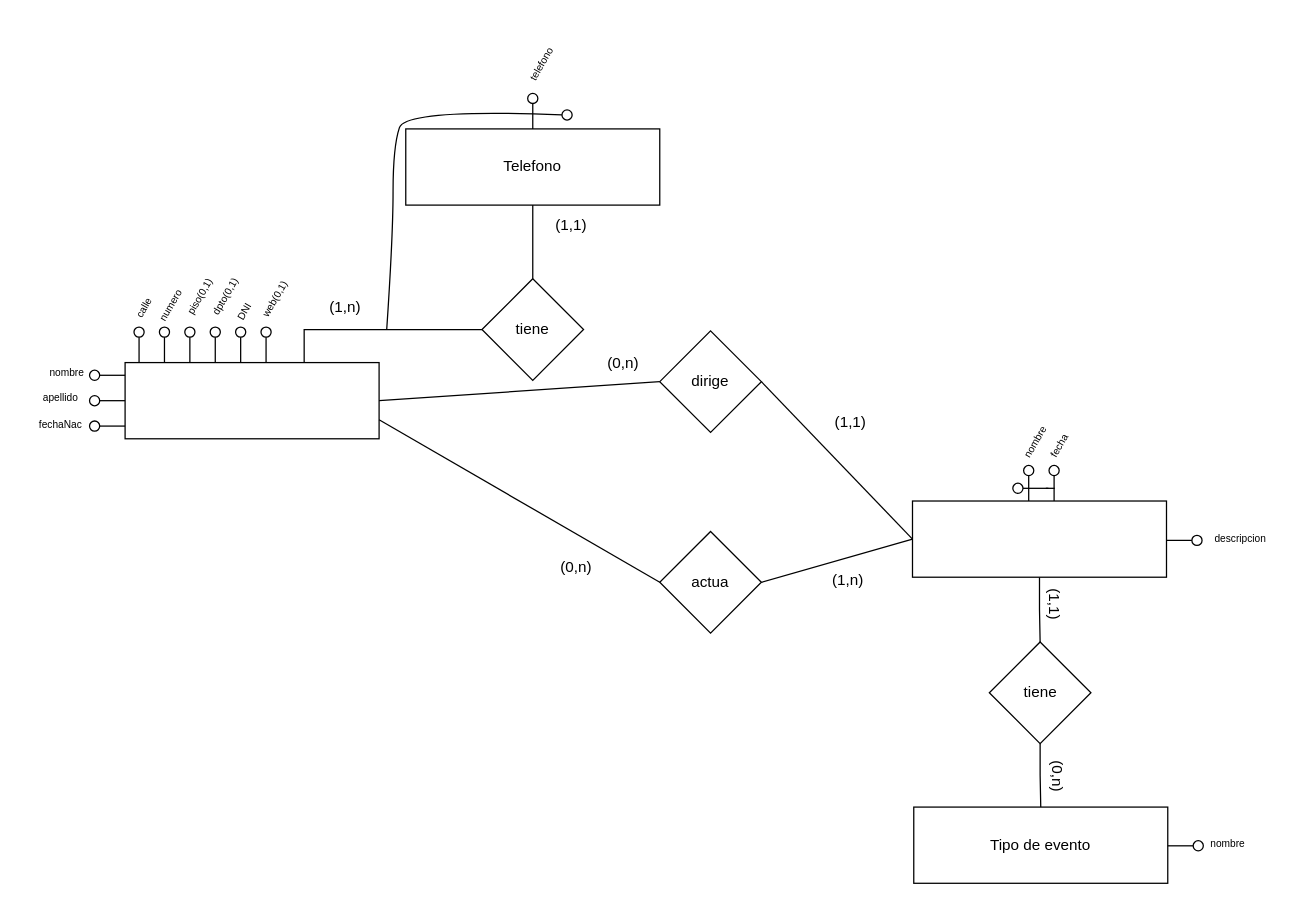
This 1312x906 diagram has some shape labels left out. The shapes that lost their labels are listed below. From the top down, each one's box as (x1, y1, x2, y2) in pixels, then its label:
(124, 361, 379, 439): Artista
(911, 500, 1166, 577): Evento
